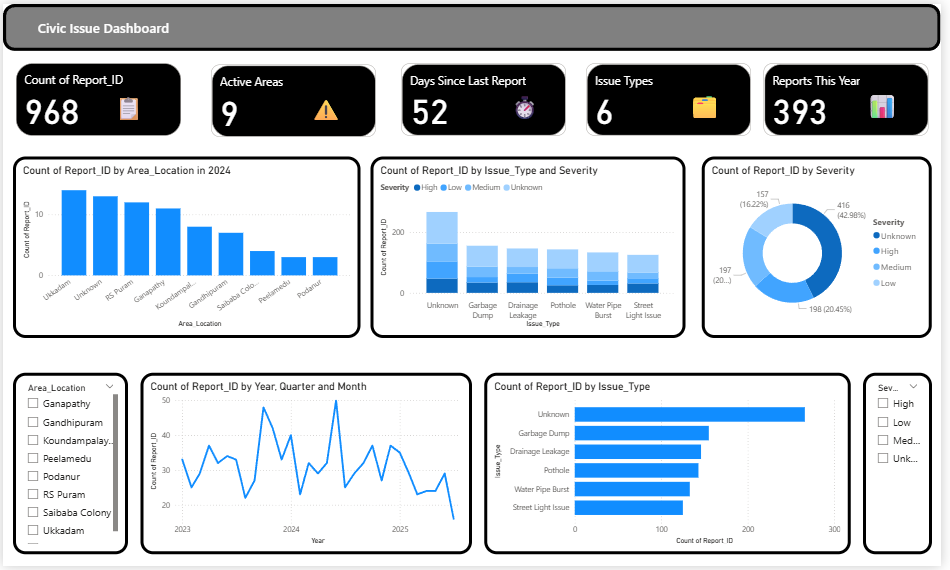

What the dashboard file says about the page in this screenshot:
{"tool":"powerbi","page":{"name":"Page 1","canvas":[1500,900],"ordinal":0},"visuals":[{"type":"clusteredBarChart","fields":{"Category":["cleaned_civic_issues.Issue_Type"],"Y":["CountNonNull(cleaned_civic_issues.Report_ID)"]},"box":[770,590,586,290],"z":0},{"type":"columnChart","fields":{"Category":["cleaned_civic_issues.Issue_Type"],"Y":["CountNonNull(cleaned_civic_issues.Report_ID)"],"Series":["cleaned_civic_issues.Severity"]},"box":[588,244,504,290],"z":1000},{"type":"lineChart","fields":{"Y":["CountNonNull(cleaned_civic_issues.Report_ID)"],"Category":["cleaned_civic_issues.Month_Year.Variation.Date Hierarchy.Year","cleaned_civic_issues.Month_Year.Variation.Date Hierarchy.Quarter","cleaned_civic_issues.Month_Year.Variation.Date Hierarchy.Month","cleaned_civic_issues.Month_Year.Variation.Date Hierarchy.Day"]},"box":[220,590,530,290],"z":2000},{"type":"slicer","fields":{"Values":["cleaned_civic_issues.Area_Location"]},"box":[16,590,184,290],"z":3000},{"type":"cardVisual","fields":{"Data":["CountNonNull(cleaned_civic_issues.Report_ID)"]},"box":[16,90,274,126],"z":4000},{"type":"slicer","fields":{"Values":["cleaned_civic_issues.Severity"]},"box":[1376,590,110,290],"z":5000},{"type":"donutChart","fields":{"Category":["cleaned_civic_issues.Severity"],"Y":["CountNonNull(cleaned_civic_issues.Report_ID)"]},"box":[1118,244,368,290],"z":6000},{"type":"clusteredColumnChart","title":"Count of Report_ID by Area_Location in 2024","fields":{"Category":["cleaned_civic_issues.Area_Location"],"Y":["CountNonNull(cleaned_civic_issues.Report_ID)"]},"box":[16,244,556,290],"z":7000},{"type":"shape","title":"Civic Issue Dashboard","box":[0,0,1500,75],"z":8000},{"type":"textbox","box":[170,136,62,64],"z":9000},{"type":"cardVisual","fields":{"Data":["cleaned_civic_issues.Active Areas"]},"box":[328,92,274,126],"z":10000},{"type":"cardVisual","fields":{"Data":["cleaned_civic_issues.Days Since Last Report"]},"box":[632,90,274,126],"z":11000},{"type":"cardVisual","fields":{"Data":["cleaned_civic_issues.Issue Types"]},"box":[928,90,274,126],"z":12000},{"type":"cardVisual","fields":{"Data":["cleaned_civic_issues.Reports This Year"]},"box":[1212,90,274,126],"z":13000},{"type":"textbox","box":[486,136,62,64],"z":14000},{"type":"textbox","box":[804,134,70,66],"z":15000},{"type":"textbox","box":[1092,132,68,66],"z":16000},{"type":"textbox","box":[1376,132,70,66],"z":16001}]}

Visuals, with their boxes in screenshot pixels (x1, y1, x2, y2), scaled from the page's 1500x900 canvas onto the 950x570 screenshot:
clusteredBarChart - cleaned_civic_issues.Issue_Type x CountNonNull(cleaned_civic_issues.Report_ID): [left=488, top=374, right=859, bottom=557]
columnChart - cleaned_civic_issues.Issue_Type x CountNonNull(cleaned_civic_issues.Report_ID): [left=372, top=155, right=692, bottom=338]
lineChart - CountNonNull(cleaned_civic_issues.Report_ID) x cleaned_civic_issues.Month_Year.Variation.Date Hierarchy.Year: [left=139, top=374, right=475, bottom=557]
slicer - cleaned_civic_issues.Area_Location: [left=10, top=374, right=127, bottom=557]
cardVisual - CountNonNull(cleaned_civic_issues.Report_ID): [left=10, top=57, right=184, bottom=137]
slicer - cleaned_civic_issues.Severity: [left=871, top=374, right=941, bottom=557]
donutChart - cleaned_civic_issues.Severity x CountNonNull(cleaned_civic_issues.Report_ID): [left=708, top=155, right=941, bottom=338]
"Count of Report_ID by Area_Location in 2024" clusteredColumnChart: [left=10, top=155, right=362, bottom=338]
"Civic Issue Dashboard" shape: [left=0, top=0, right=949, bottom=48]
textbox: [left=108, top=86, right=147, bottom=127]
cardVisual - cleaned_civic_issues.Active Areas: [left=208, top=58, right=381, bottom=138]
cardVisual - cleaned_civic_issues.Days Since Last Report: [left=400, top=57, right=574, bottom=137]
cardVisual - cleaned_civic_issues.Issue Types: [left=588, top=57, right=761, bottom=137]
cardVisual - cleaned_civic_issues.Reports This Year: [left=768, top=57, right=941, bottom=137]
textbox: [left=308, top=86, right=347, bottom=127]
textbox: [left=509, top=85, right=554, bottom=127]
textbox: [left=692, top=84, right=735, bottom=125]
textbox: [left=871, top=84, right=916, bottom=125]
